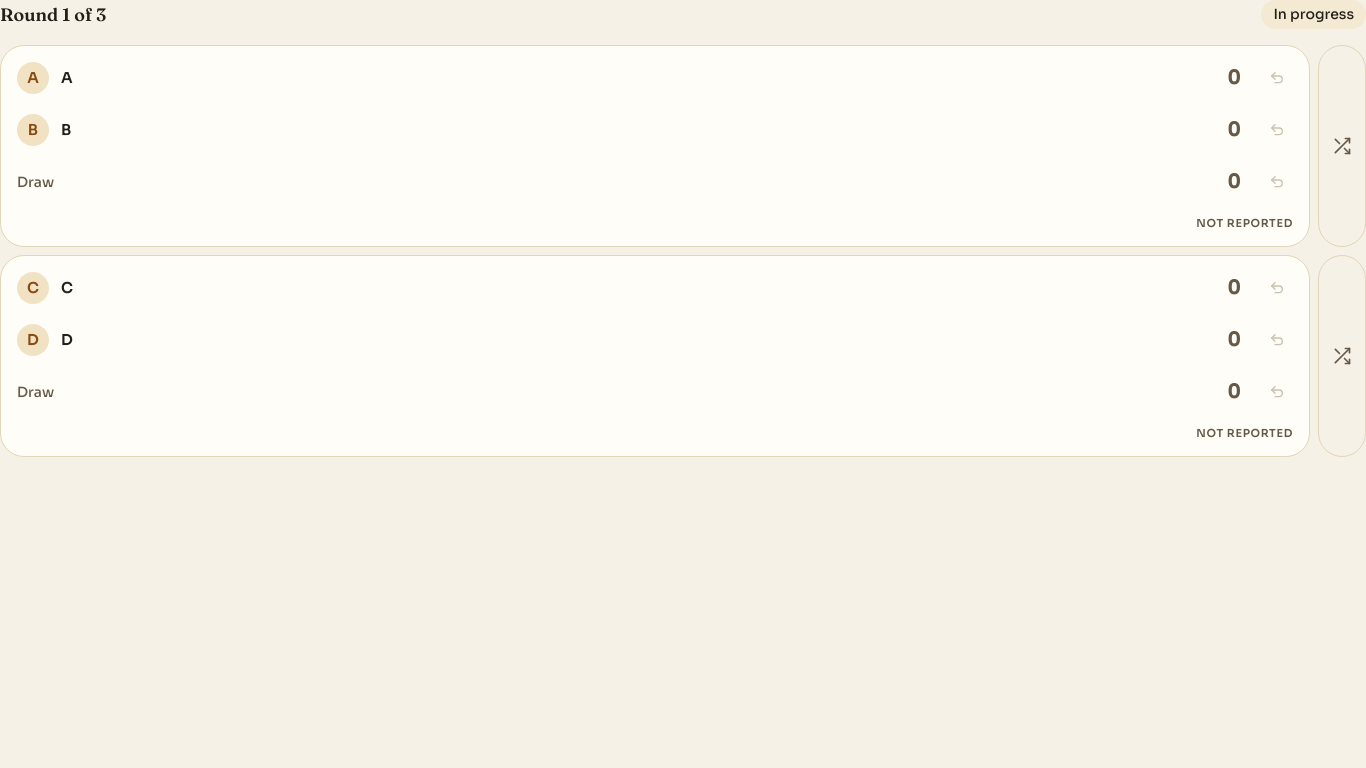
Test: RoundScreen › closes the swap sheet without swapping when dismissed
Click the button named "Swap A with another entrant" at (1342, 146), box [1318,45,1365,247]
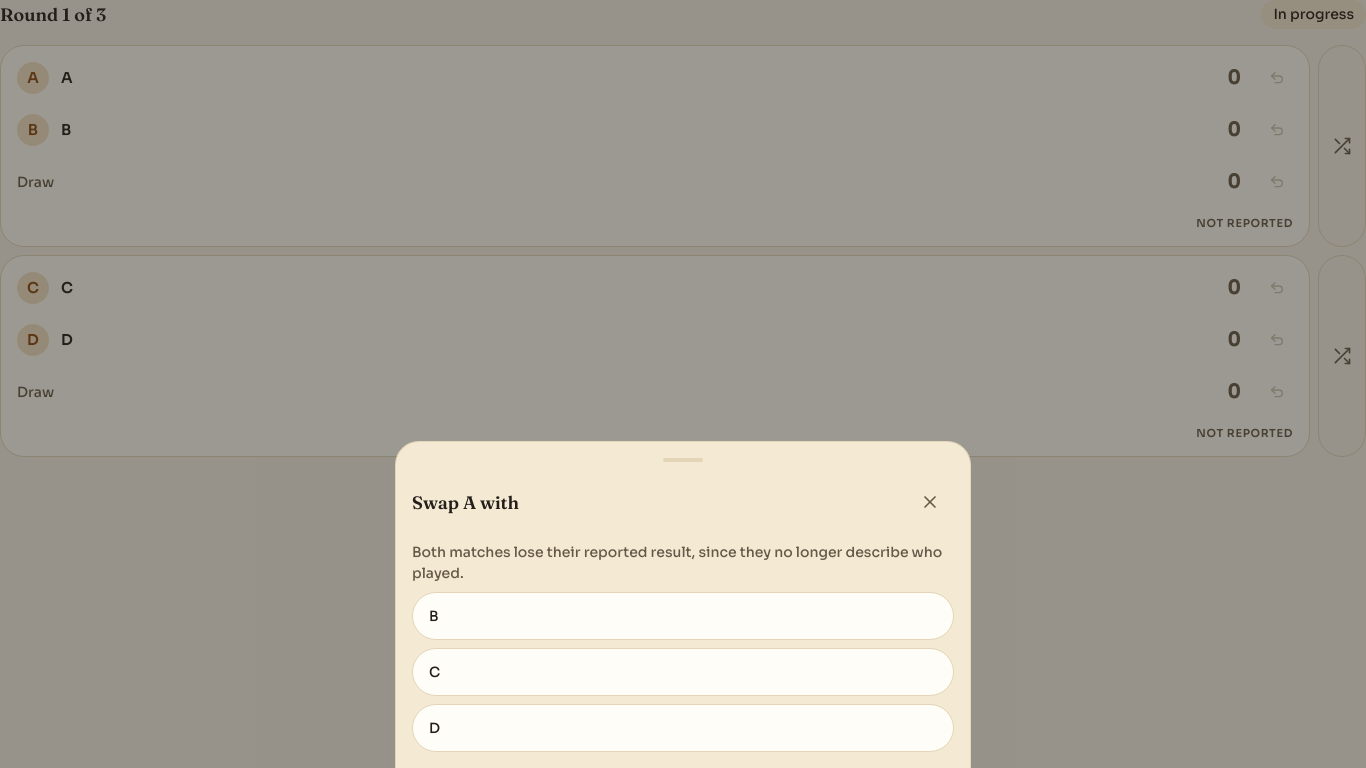
Click the button named "Close" at (930, 502), box [906,478,954,526]
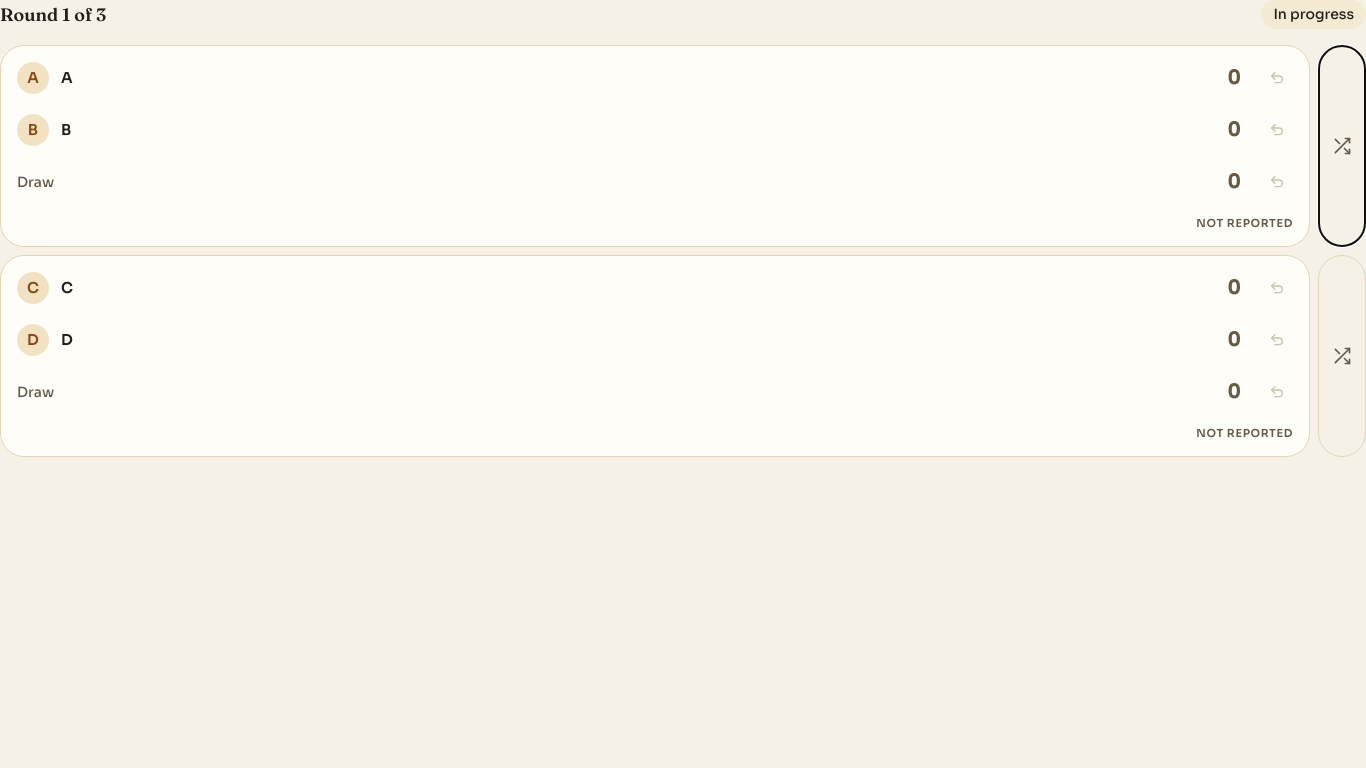
Check: the dialog is gone
